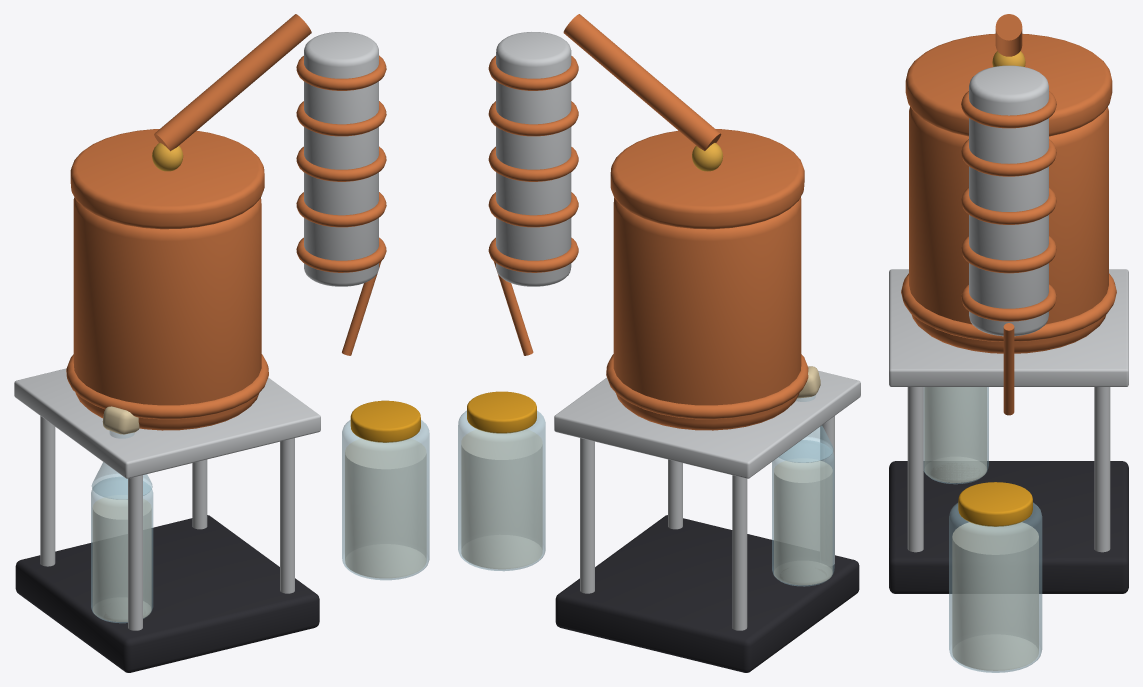
File: moonshine_still.glb
The picture shows the model from 3 angles, left to right: view 1: azimuth 30°, elevation 25°; view 2: azimuth 150°, elevation 25°; view 3: azimuth 270°, elevation 25°; orthographic projection. The views are drawn at different scales.
Parts seen in each view (by area): view 1: moonshine_still, moonshine_still_lid; view 2: moonshine_still, moonshine_still_lid; view 3: moonshine_still, moonshine_still_lid.
Boxes of the visible parts, x1,y1,x2,y2 form: moonshine_still: [14, 14, 429, 672]; moonshine_still_lid: [70, 129, 264, 229]; moonshine_still: [458, 14, 860, 672]; moonshine_still_lid: [610, 129, 804, 229]; moonshine_still: [889, 14, 1128, 672]; moonshine_still_lid: [905, 33, 1112, 136].
Bounding box in the file's own units: 0.64 × 0.9923 × 0.36.
